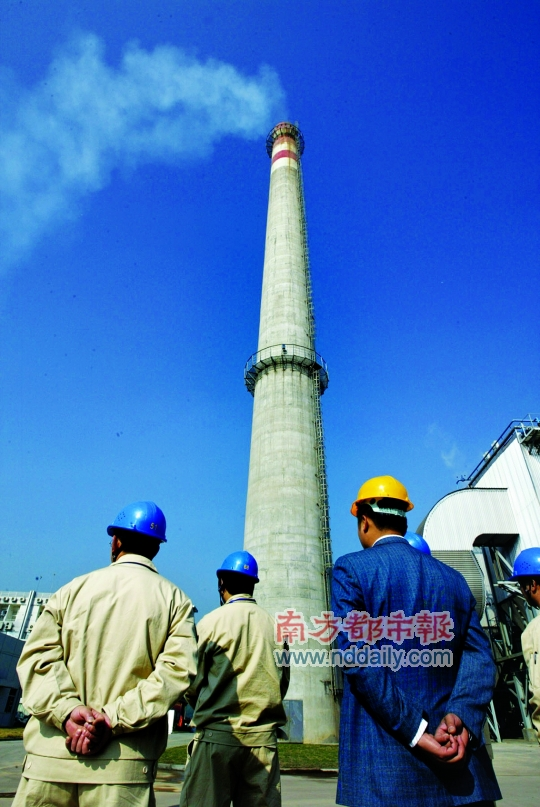dust: (6, 28, 313, 176)
